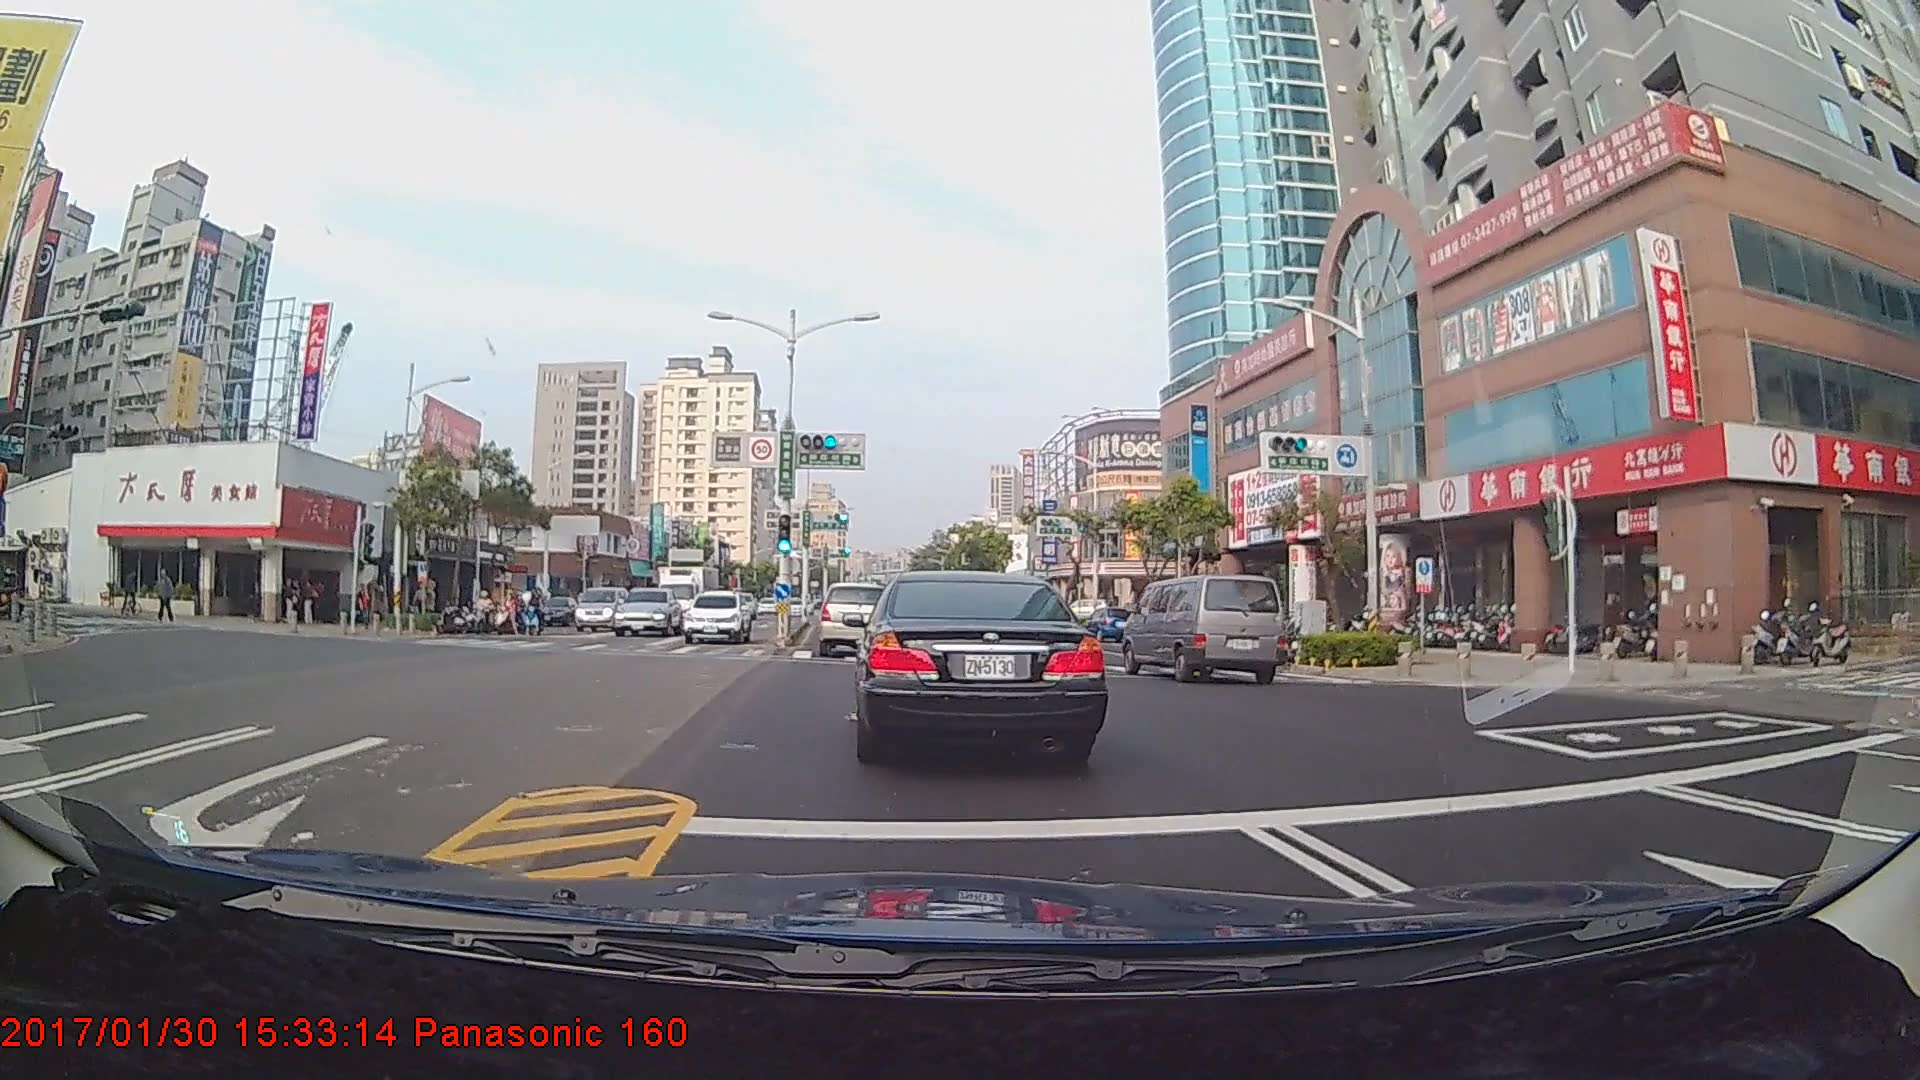pedestrian: (154, 570, 176, 624), (283, 577, 303, 628), (299, 578, 319, 626)
vehicle: (853, 568, 1099, 764), (1126, 573, 1288, 681), (818, 579, 896, 656), (658, 559, 725, 631), (611, 587, 684, 638), (682, 590, 752, 644), (571, 583, 627, 630), (1078, 603, 1130, 643)
